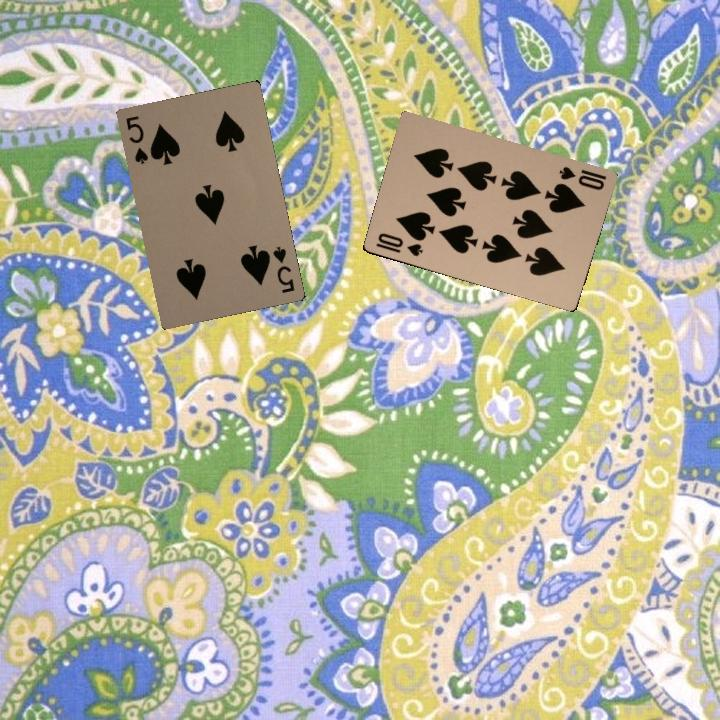10s: (555, 162, 609, 193), (372, 229, 425, 259)
5s: (122, 112, 151, 167), (269, 242, 297, 296)
